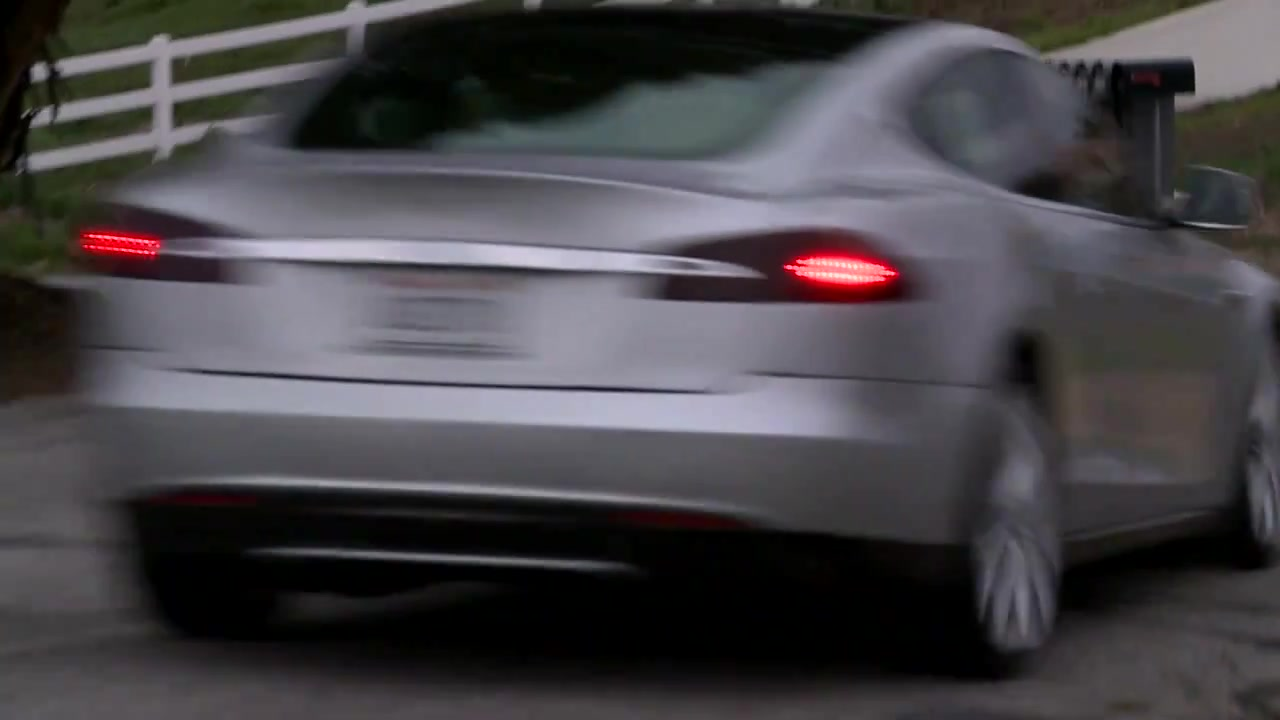car: (50, 1, 1278, 681)
